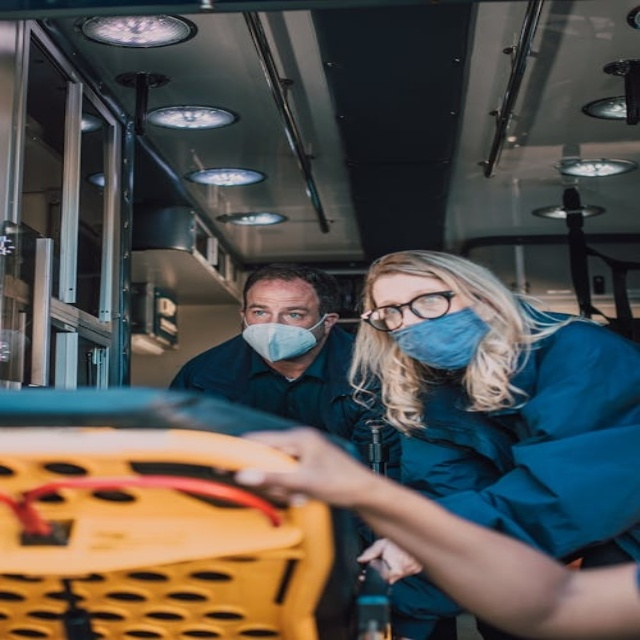Gafas: (361, 291, 459, 332)
Mascara: (385, 305, 491, 368), (240, 313, 328, 362)
Sin_gafas: (243, 300, 317, 323)
Sin_guantes: (221, 422, 384, 512), (356, 534, 423, 584)
